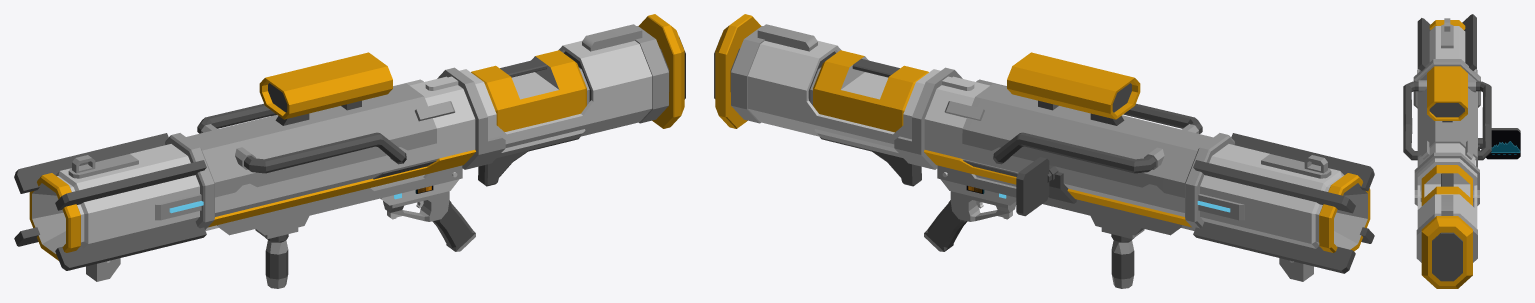
3 views of the same model, side by side, from view 1: azimuth 30°, elevation 25°; view 2: azimuth 150°, elevation 25°; view 3: azimuth 270°, elevation 25° (orthographic). The views are drawn at different scales.
Parts seen in each view (by area): view 1: SM_LA01, SM_LA01_Battery; view 2: SM_LA01, SM_LA01_Battery, SM_LA01_Screen; view 3: SM_LA01, SM_LA01_Battery, SM_LA01_Screen.
Boxes of the visible parts, box(x1,y1,x2,y2) form: SM_LA01: box(14, 14, 685, 288); SM_LA01_Battery: box(471, 50, 586, 131); SM_LA01: box(714, 14, 1374, 288); SM_LA01_Battery: box(813, 50, 928, 132); SM_LA01_Screen: box(1016, 157, 1049, 216); SM_LA01: box(1403, 14, 1491, 288); SM_LA01_Battery: box(1421, 165, 1472, 205); SM_LA01_Screen: box(1486, 128, 1520, 159).
Size of the model in its own units: 129 by 40 by 29.63.
6 materials, 1 textured.
